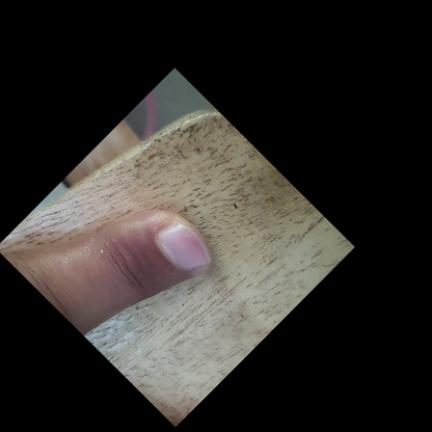Nail: (158, 222, 211, 269)
